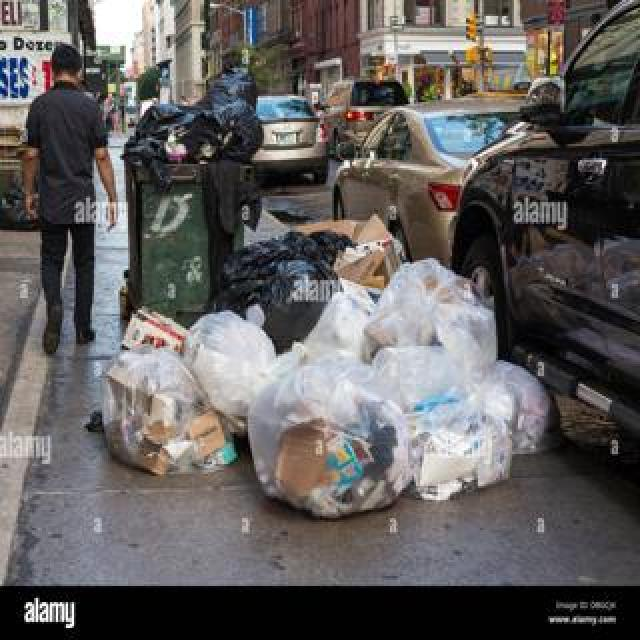high trash: (106, 216, 548, 517)
